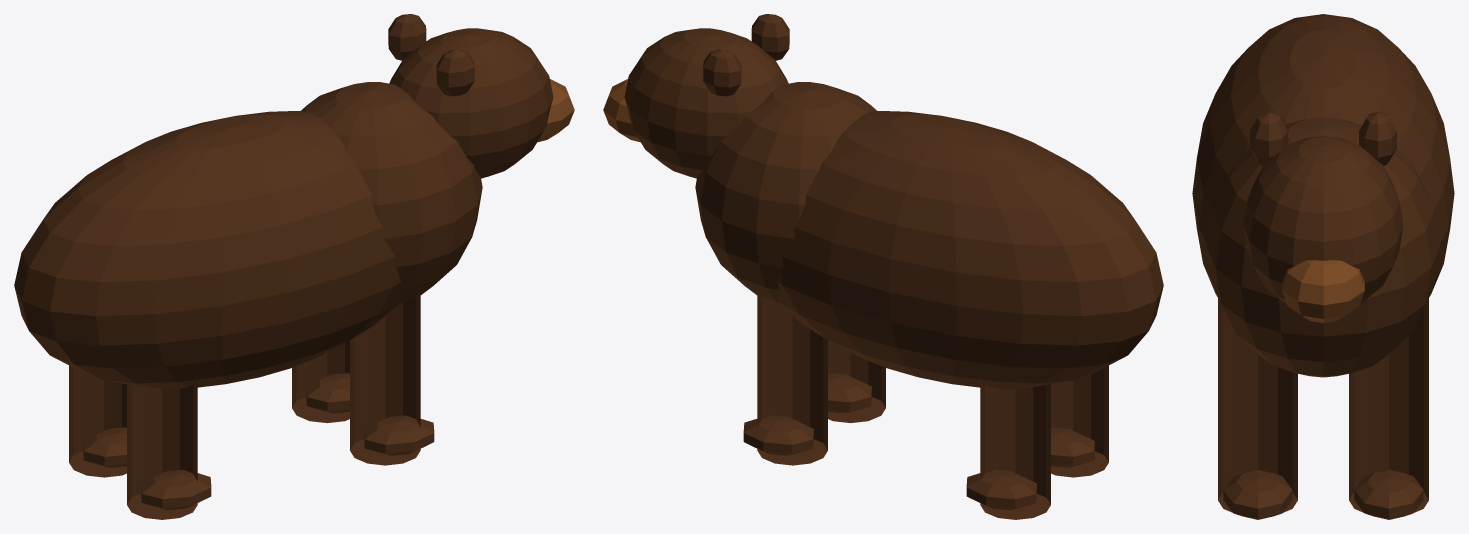
Rendered from bear.obj.
3 views of the same model, side by side, from view 1: azimuth 30°, elevation 25°; view 2: azimuth 150°, elevation 25°; view 3: azimuth 270°, elevation 25° (orthographic). The views are drawn at different scales.
Visible parts, largest first — view 1: bear_body, bear_chest, bear_head, leg_0.45_0.18, leg_-0.35_0.18, leg_-0.35_-0.18, leg_0.45_-0.18, paw_0.45_0.18, paw_-0.35_0.18, ear_0.15, paw_-0.35_-0.18, paw_0.45_-0.18 (+2 smaller); view 2: bear_body, bear_chest, bear_head, leg_0.45_-0.18, leg_-0.35_-0.18, leg_-0.35_0.18, leg_0.45_0.18, paw_0.45_-0.18, paw_-0.35_-0.18, ear_-0.15, paw_-0.35_0.18, paw_0.45_0.18 (+2 smaller); view 3: bear_body, bear_chest, bear_head, leg_0.45_-0.18, leg_0.45_0.18, muzzle, paw_0.45_-0.18, paw_0.45_0.18, ear_-0.15, ear_0.15.
Part boxes in pixels (x1,y1,x2,y2): bear_body: (14,111,400,389); bear_chest: (301,82,482,302); bear_head: (389,28,553,178); leg_0.45_0.18: (350,288,420,465); leg_-0.35_0.18: (127,376,197,519); leg_-0.35_-0.18: (69,365,126,477); leg_0.45_-0.18: (292,340,349,423); paw_0.45_0.18: (364,415,434,455); paw_-0.35_0.18: (141,469,211,510); ear_0.15: (436,49,474,96); paw_-0.35_-0.18: (83,427,126,467); paw_0.45_-0.18: (306,373,349,413); bear_body: (777,111,1163,389); bear_chest: (695,82,876,302); bear_head: (624,28,788,178); leg_0.45_-0.18: (757,288,827,465); leg_-0.35_-0.18: (980,376,1050,519); leg_-0.35_0.18: (1051,365,1108,477); leg_0.45_0.18: (828,340,885,423); paw_0.45_-0.18: (743,415,813,455); paw_-0.35_-0.18: (966,469,1036,510); ear_-0.15: (703,49,741,96); paw_-0.35_0.18: (1051,427,1094,467); paw_0.45_0.18: (828,373,871,413); bear_body: (1192,14,1454,298); bear_chest: (1207,117,1439,377); bear_head: (1243,136,1403,304); leg_0.45_-0.18: (1349,304,1428,512); leg_0.45_0.18: (1218,304,1297,512); muzzle: (1282,260,1364,322); paw_0.45_-0.18: (1354,470,1423,519); paw_0.45_0.18: (1223,470,1292,519); ear_-0.15: (1359,111,1396,165); ear_0.15: (1250,111,1287,165).
Size of the model in its own units: 1.97 by 1.31 by 0.72.
